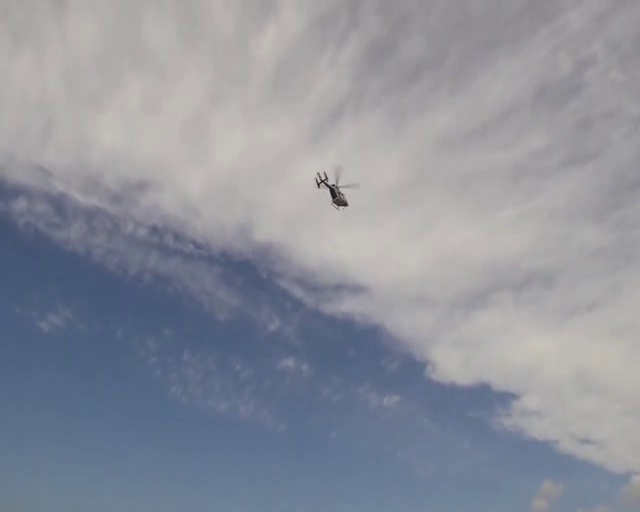HELICOPTER: (315, 164, 360, 210)
